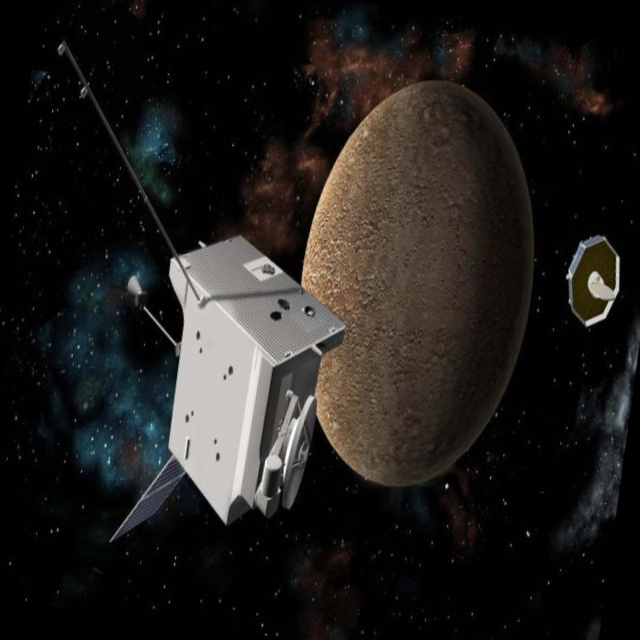medium_debris: (93, 189, 371, 568), (550, 214, 633, 342)
